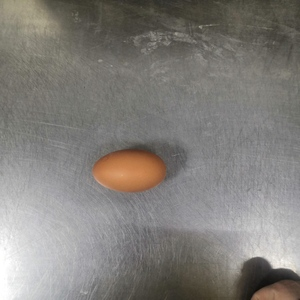brown egg: (91, 148, 168, 194)
